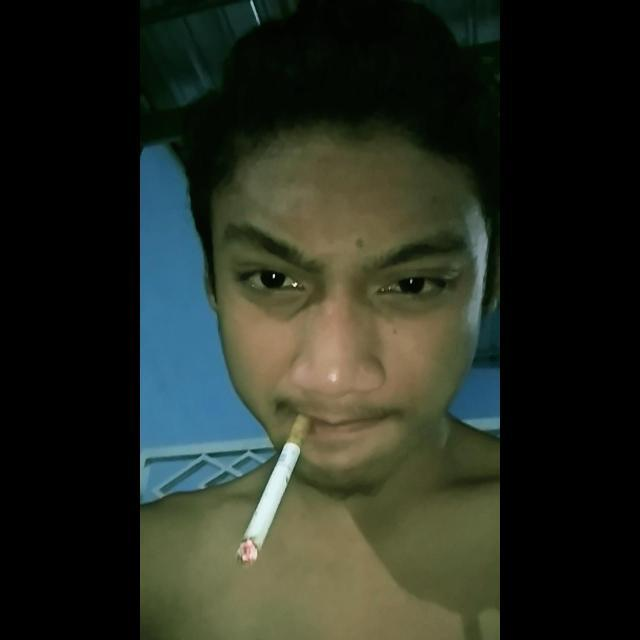rokok: (232, 413, 320, 567)
